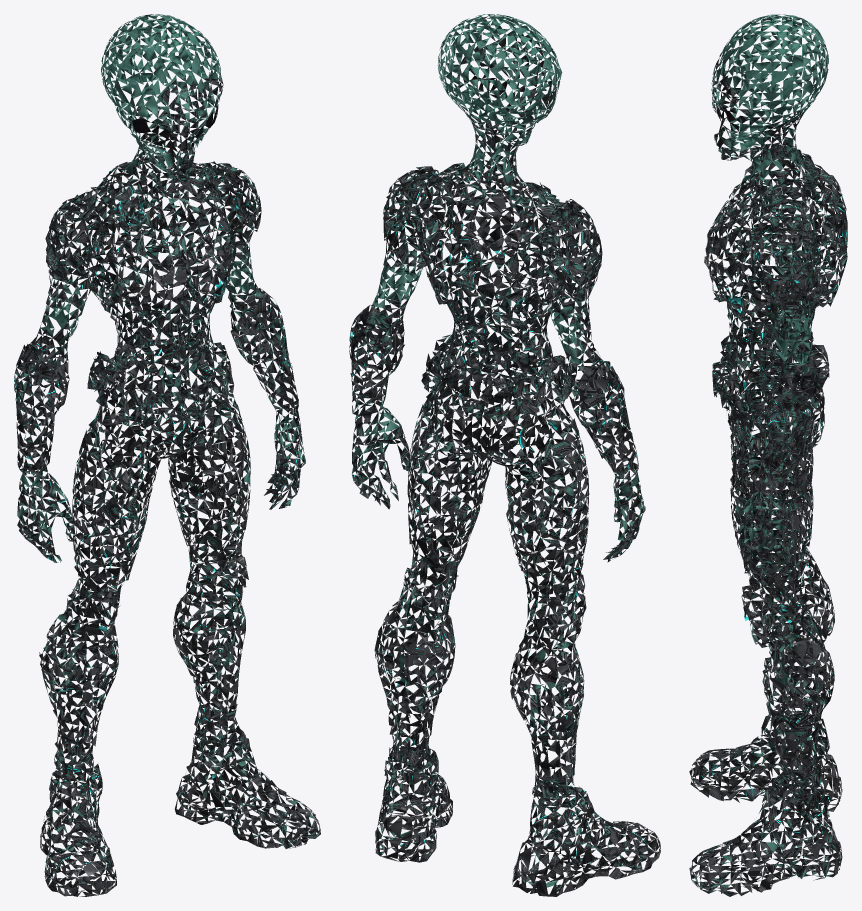
The model's file is stellar-sentinel.glb.
3 renders of one model, left to right at view 1: azimuth 30°, elevation 25°; view 2: azimuth 150°, elevation 25°; view 3: azimuth 270°, elevation 25°, orthographic. The views are drawn at different scales.
Visible parts, largest first — view 1: StellarSentinel; view 2: StellarSentinel; view 3: StellarSentinel.
Boxes of the visible parts, box(x1,y1,x2,y2) form: StellarSentinel: box(14, 14, 320, 896); StellarSentinel: box(349, 14, 660, 896); StellarSentinel: box(689, 14, 847, 896).
Size of the model in its own units: 0.6801 by 1.9 by 0.3357.
Materials: 1 (1 with a texture image).
